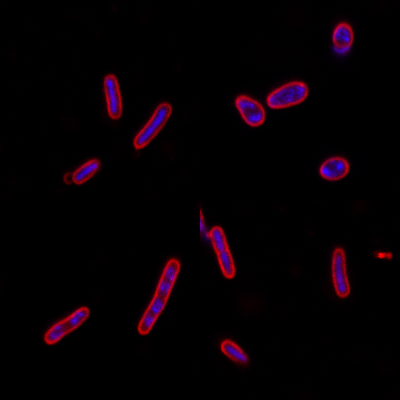Control: (136, 258, 181, 337), (42, 306, 90, 346)
Mecillinam: (266, 81, 308, 109), (233, 94, 266, 127), (317, 155, 350, 180)
Oblique: (330, 21, 356, 57), (70, 157, 101, 186), (219, 338, 250, 367)
Rifampicin: (132, 101, 173, 150), (207, 225, 236, 279), (101, 71, 124, 120), (330, 246, 351, 299)
